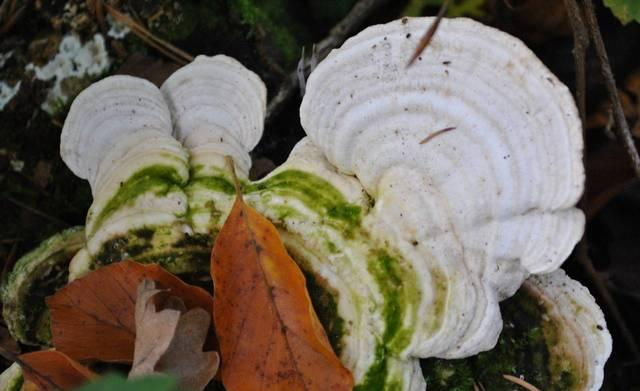Non-edible Mushroom: (0, 13, 640, 391)
